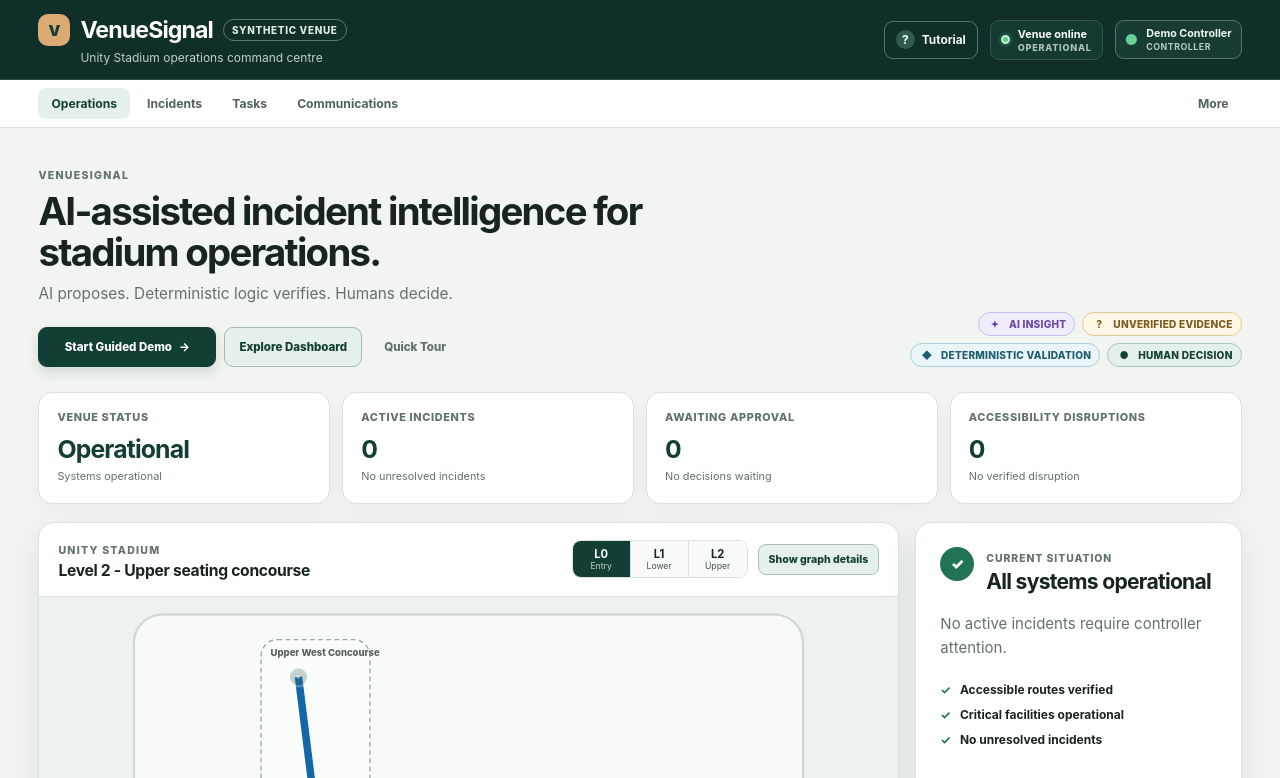
Test case: VenueSignal frontend experience › keeps a transient report-analysis failure visible and safely retryable
Expected: the heading "All systems operational" is shown, [986, 570, 1211, 594]
Click the button "Start Guided Demo →".
click(127, 347)  # box [38, 327, 216, 367]
(page scrolled)
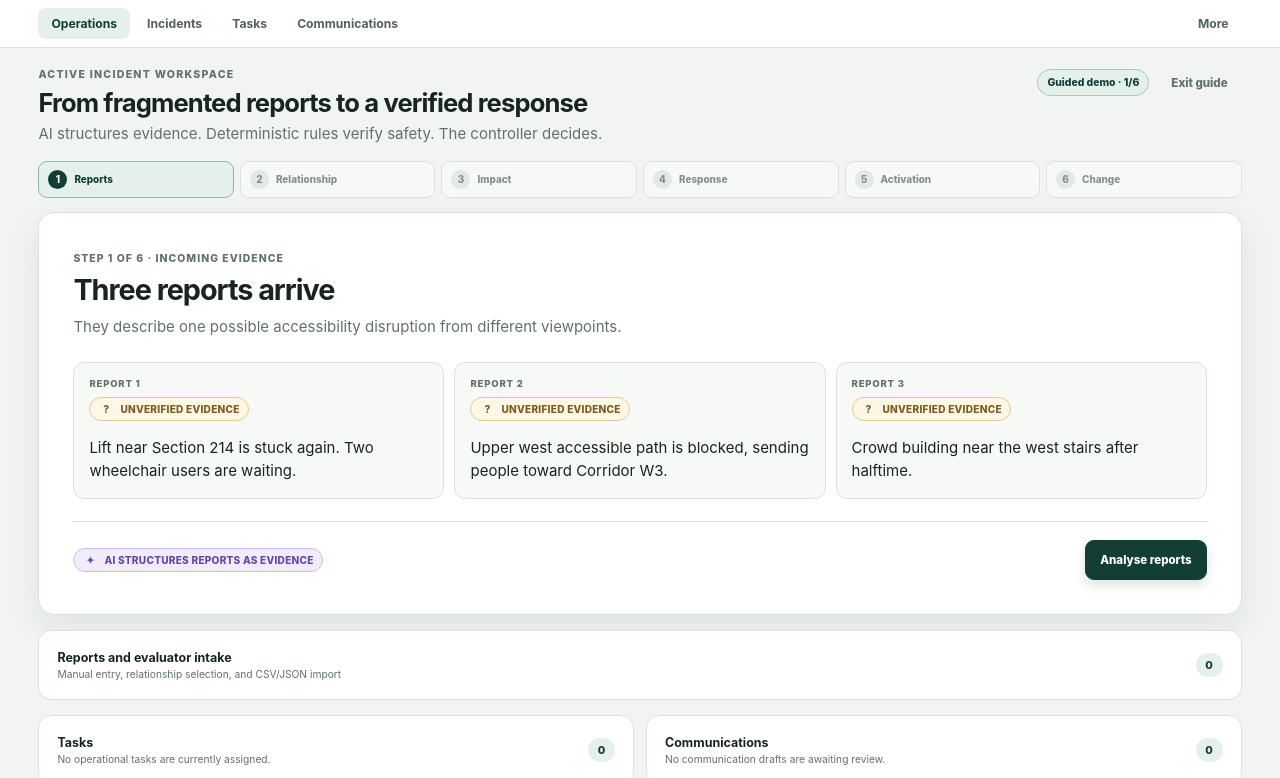
Click the button "Analyse reports".
click(1146, 560)  # box [1085, 540, 1207, 580]
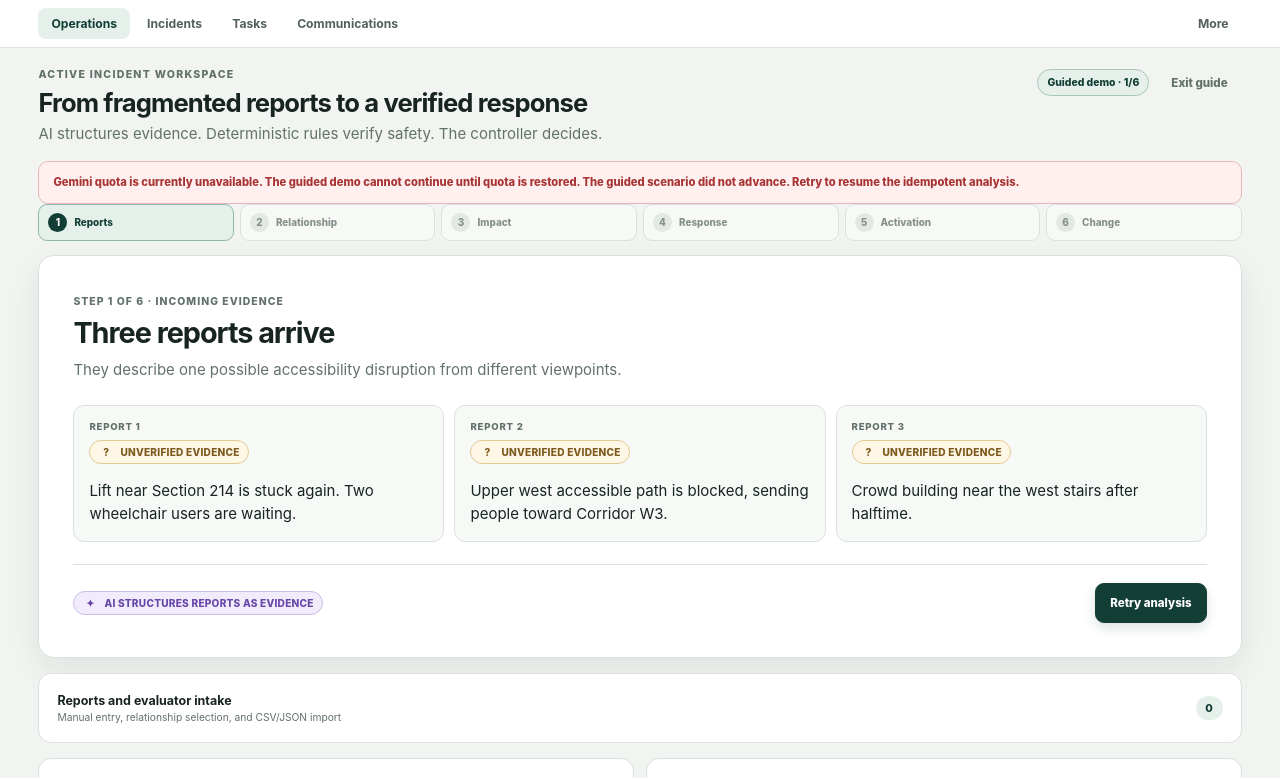
Expected: the button "Retry analysis" is enabled, [1095, 583, 1207, 623]
Expected: the message shows "Gemini quota is currently unavailable", [53, 175, 580, 189]
Expected: the message shows "The guided scenario did not advance. Retry to resume the idempotent analysis.", [582, 175, 1020, 189]
